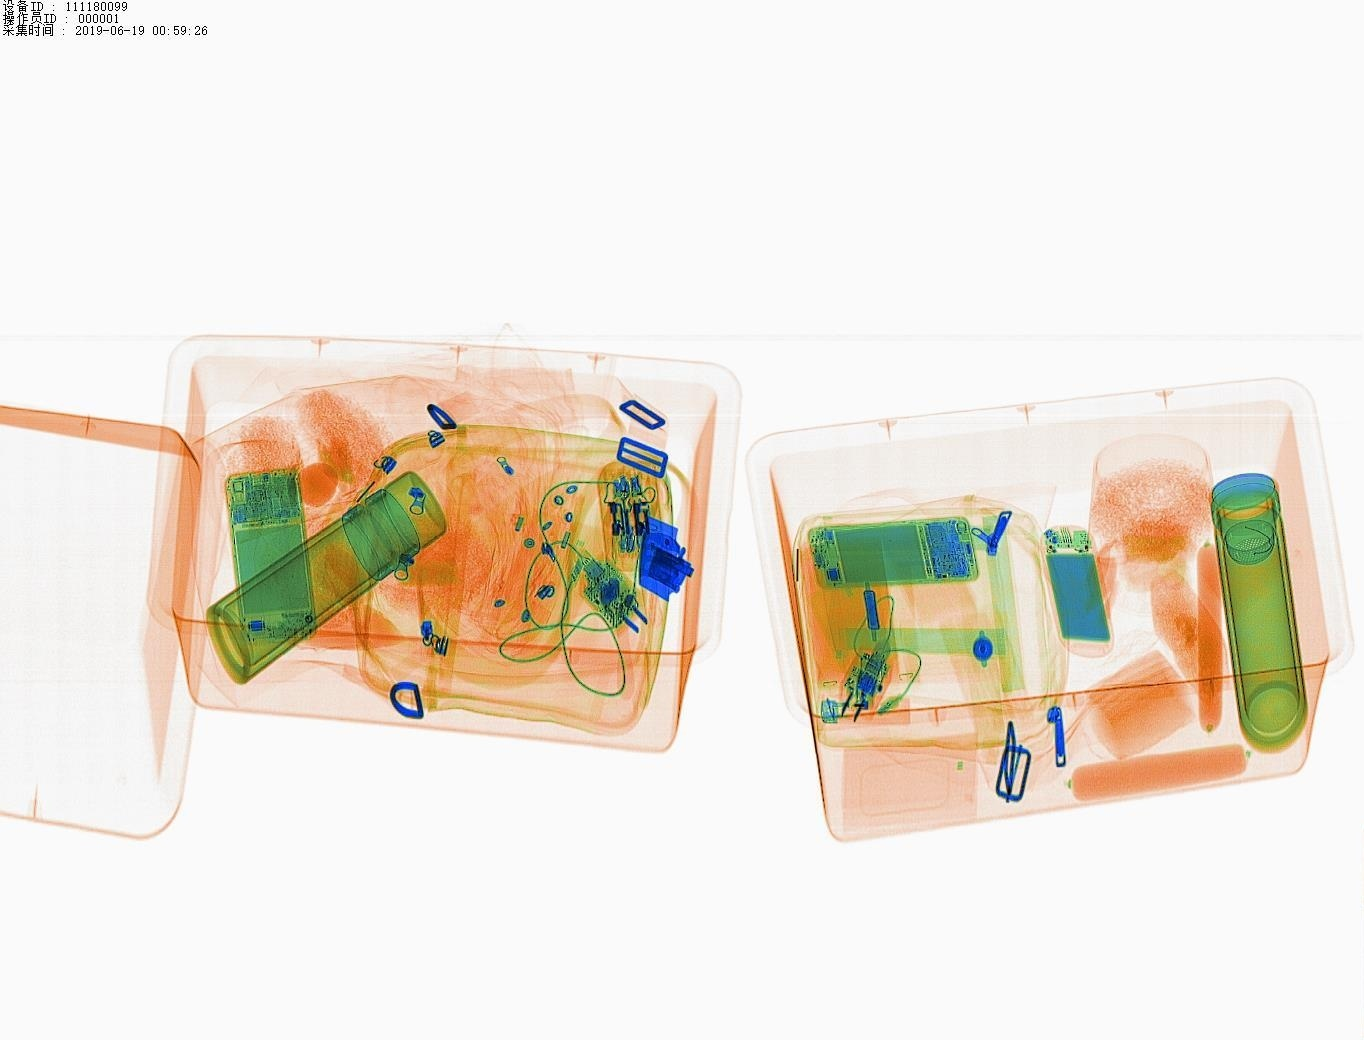NonmetallicFire: (820, 688, 930, 738)
